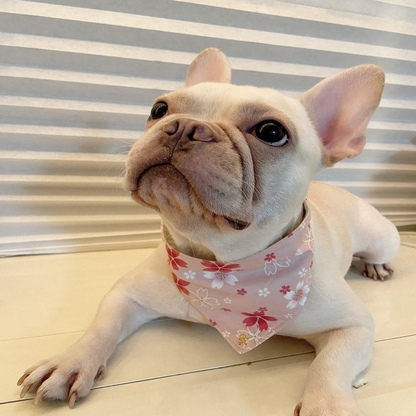bulldog: (16, 46, 404, 416)
